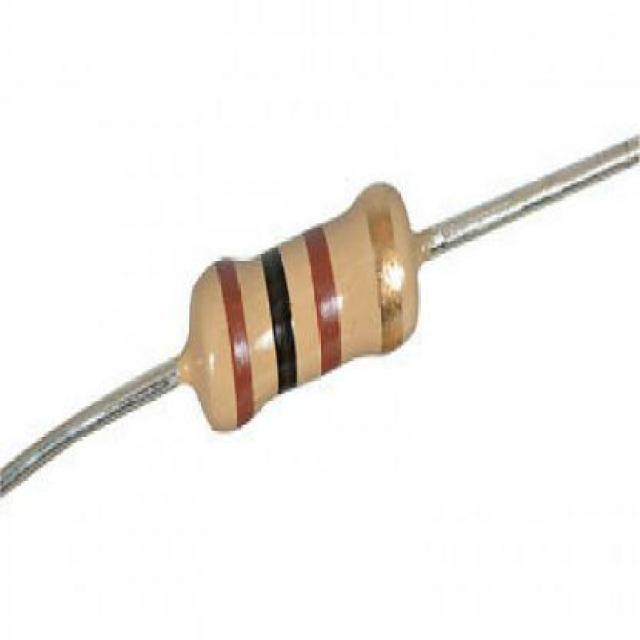Capacitor: (171, 183, 429, 432)
